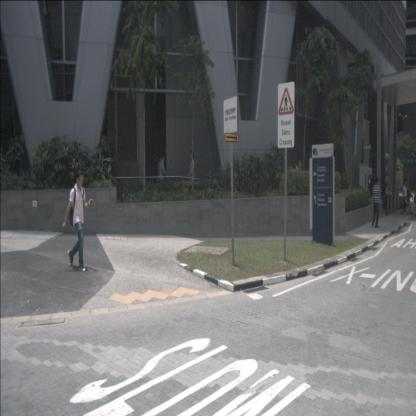human-pedestrian-adult: (61, 171, 95, 272), (371, 176, 383, 228), (187, 149, 196, 203), (401, 177, 413, 217), (156, 154, 166, 198), (159, 153, 168, 201), (401, 179, 408, 215)
